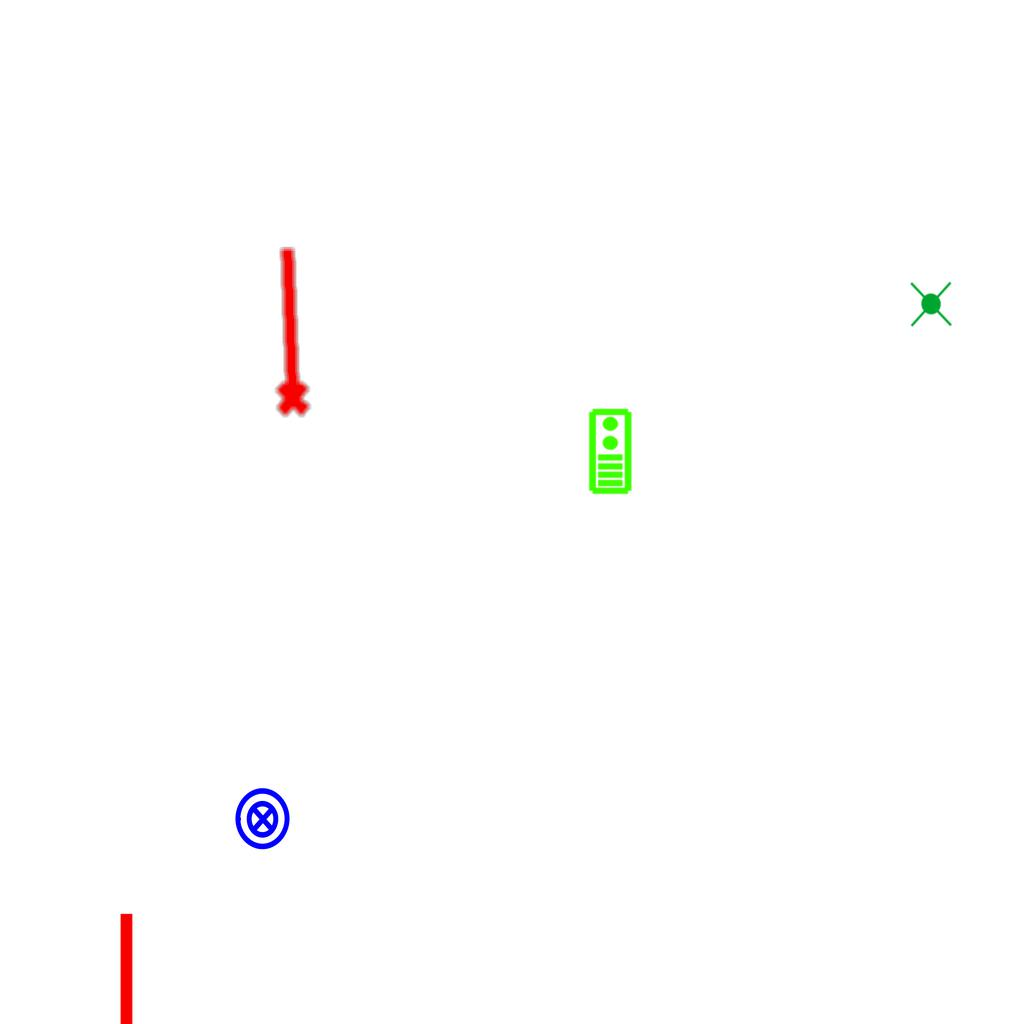ASR_Ansaugoeffnung: (261, 242, 315, 420), (101, 908, 147, 1024)
Gegensprechanlage_mit_Video: (586, 407, 633, 495)
Notlichtbaustein_in_Allgemeinbeleuchtug_engebaut_Einbau_(1UG_und_2UG_Aufbauvaria: (905, 279, 956, 329)
Taster_beleuchtet: (230, 786, 296, 852)
